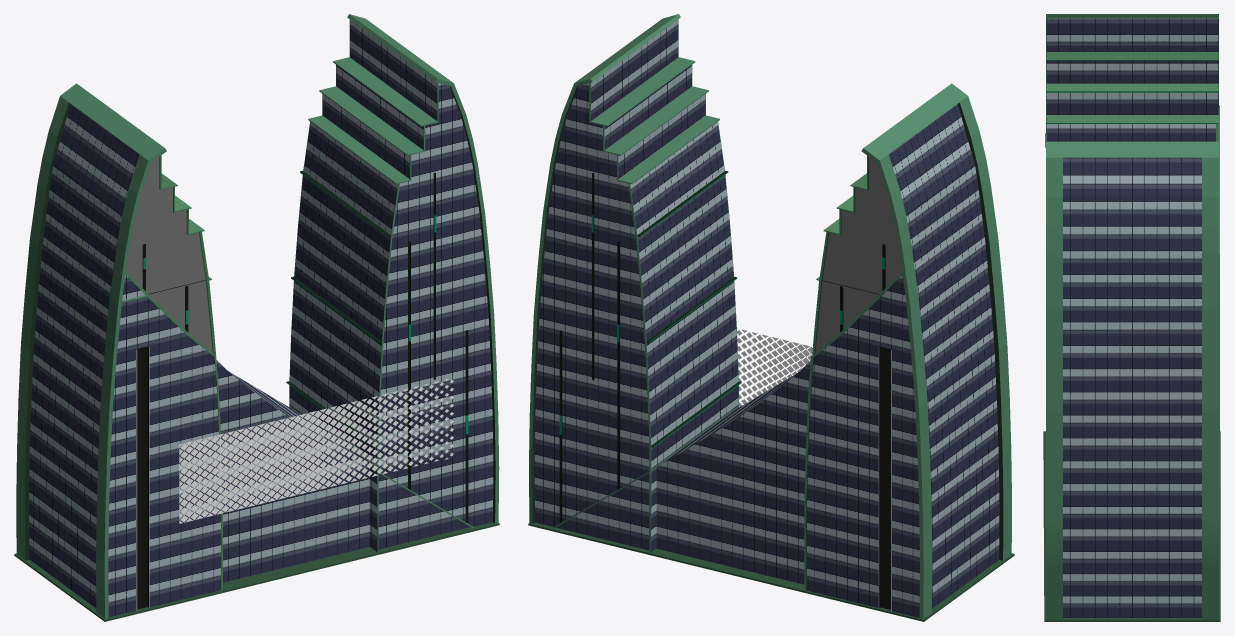
File: Building_001_2st_L0.fbx
3 renders of one model, left to right at view 1: azimuth 30°, elevation 25°; view 2: azimuth 150°, elevation 25°; view 3: azimuth 270°, elevation 25°, orthographic. The views are drawn at different scales.
Parts seen in each view (by area): view 1: Building_001_2st_L0; view 2: Building_001_2st_L0; view 3: Building_001_2st_L0.
Boxes of the visible parts, x1,y1,x2,y2 form: Building_001_2st_L0: [14, 14, 499, 621]; Building_001_2st_L0: [528, 14, 1014, 621]; Building_001_2st_L0: [1043, 14, 1220, 621].
Bounding box in the file's own units: 72.48 × 28.73 × 80.75.
